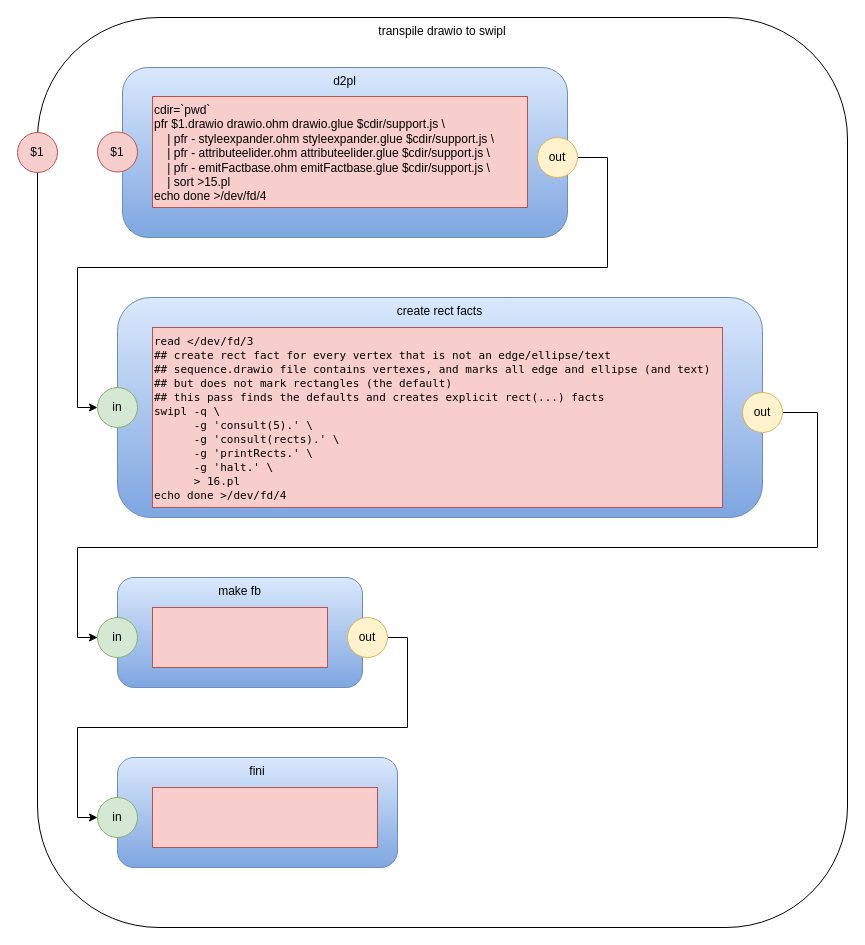
Image size: 865x945. Some labels were removed from this diagram. The centre of each missing label's shape, as x and y in pixels:
read baton </dev/fd/3 echo 'baton=/' $baton '/' 1>&2 echo end 1>&2 # no output: point 265,817
result=`read </dev/fd/3` cat 15.pl 16.pl >fb.pl echo done >/dev/fd/4: point 240,637
